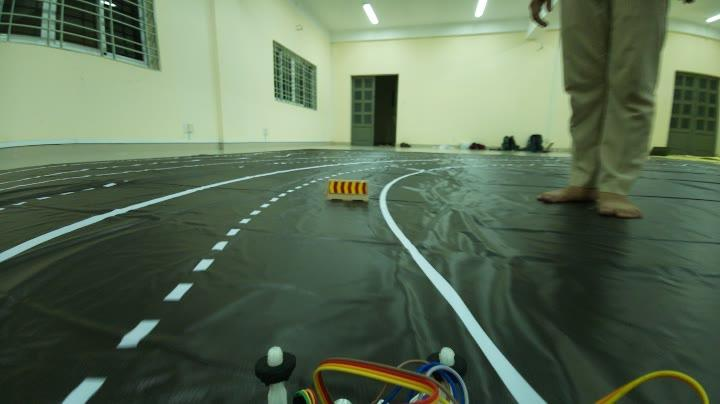roadblock: (326, 172, 378, 206)
